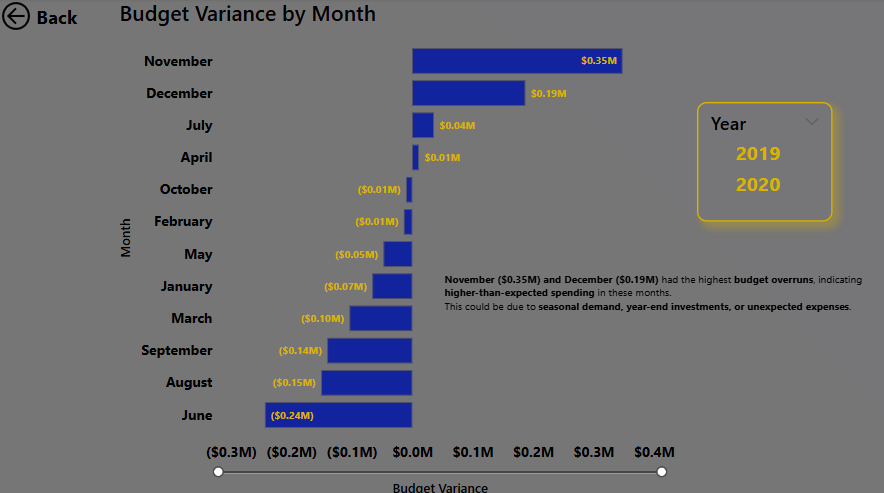

The dashboard page shown, as its layout file describes it:
{"tool":"powerbi","page":{"name":"Monthly Performance","canvas":[1280,720],"ordinal":3},"visuals":[{"type":"clusteredBarChart","fields":{"Y":["_Measures.Variance"],"Category":["dCalender.Month"]},"box":[170.6,0,824.1,720],"z":0},{"type":"slicer","fields":{"Values":["dCalender.Year"]},"box":[1011.3,150.3,196.2,173.3],"z":1000},{"type":"textbox","box":[640.5,390.4,639,83.9],"z":2000},{"type":"actionButton","box":[0,0,118.6,52],"z":3000}]}

Visuals, with their boxes in screenshot pixels (x1, y1, x2, y2), scaled from the page's 1280x720 canvas onto the 884x493 screenshot:
clusteredBarChart - _Measures.Variance x dCalender.Month: select_region(118, 0, 687, 492)
slicer - dCalender.Year: select_region(698, 103, 834, 222)
textbox: select_region(442, 267, 883, 325)
actionButton: select_region(0, 0, 82, 36)
